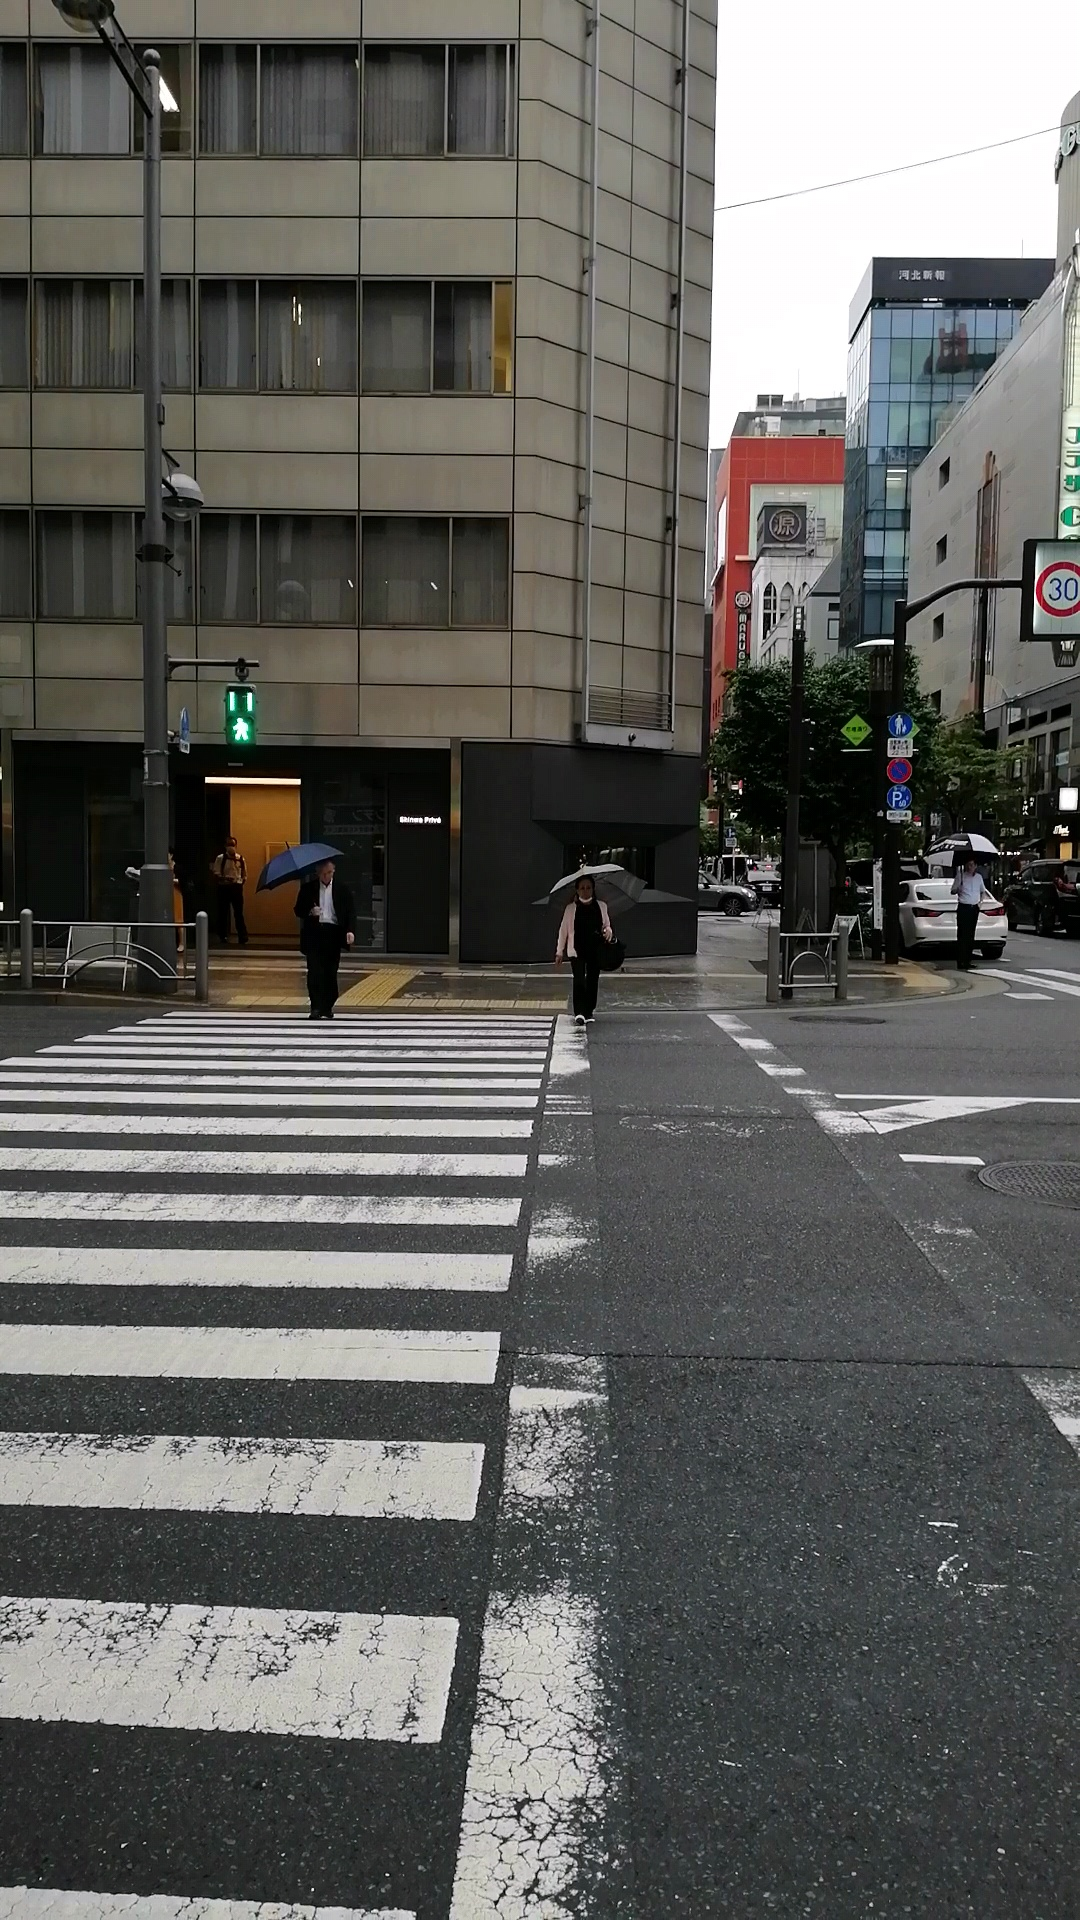green: (223, 683, 257, 746)
